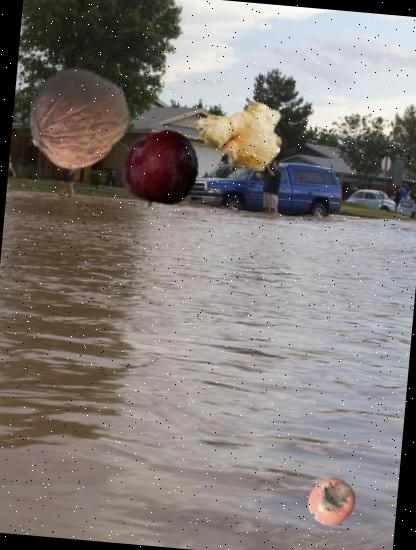Ginger: (190, 83, 288, 182)
Kaki: (304, 474, 360, 530)
Plum: (116, 124, 206, 214)
Walnut: (22, 61, 135, 174)
